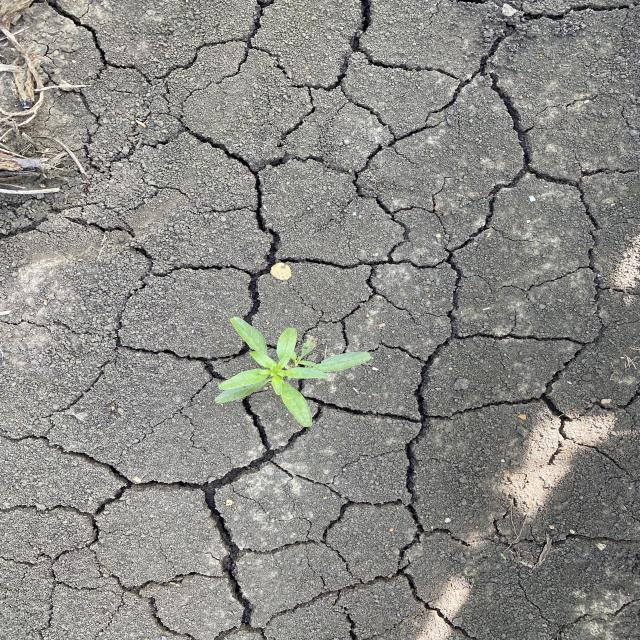Waterhemp: (213, 315, 374, 429)
